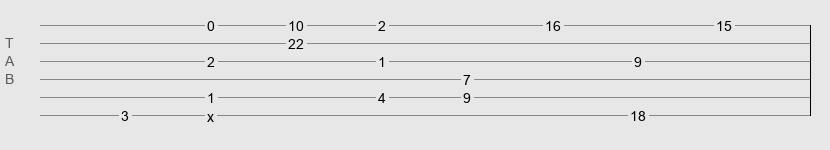0: (207, 18, 215, 28)
1: (207, 90, 215, 100), (378, 54, 386, 64)
10: (288, 18, 304, 28)
15: (716, 18, 732, 28)
16: (545, 18, 561, 28)
18: (630, 108, 646, 118)
2: (207, 54, 215, 64), (378, 18, 386, 28)
22: (288, 36, 304, 46)
3: (121, 108, 129, 118)
4: (378, 90, 386, 100)
7: (463, 72, 471, 82)
9: (463, 90, 471, 100), (634, 54, 642, 64)
x: (207, 109, 214, 117)
